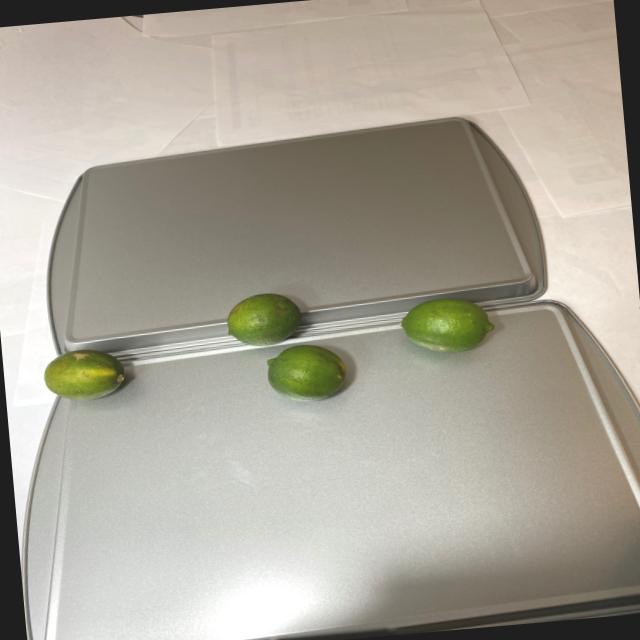lemon: (31, 274, 496, 422)
